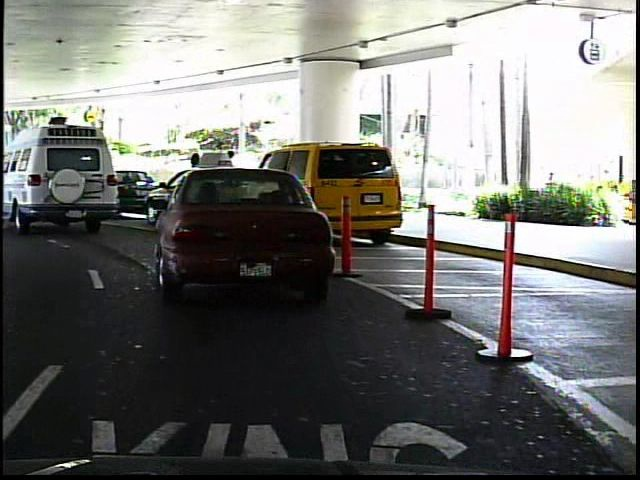person: (221, 146, 245, 212), (184, 147, 208, 211), (58, 155, 80, 198), (4, 158, 22, 198)
